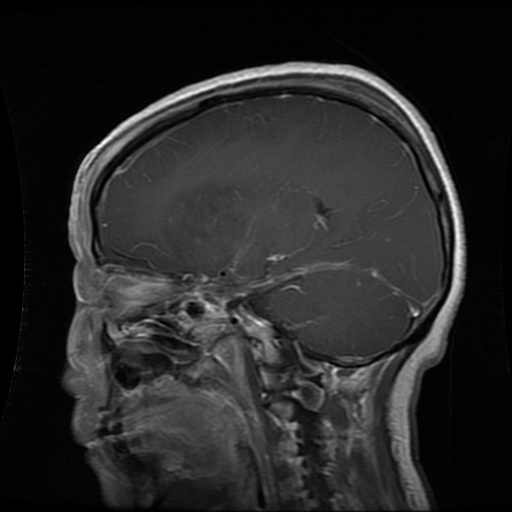glioma: (162, 180, 252, 275)
